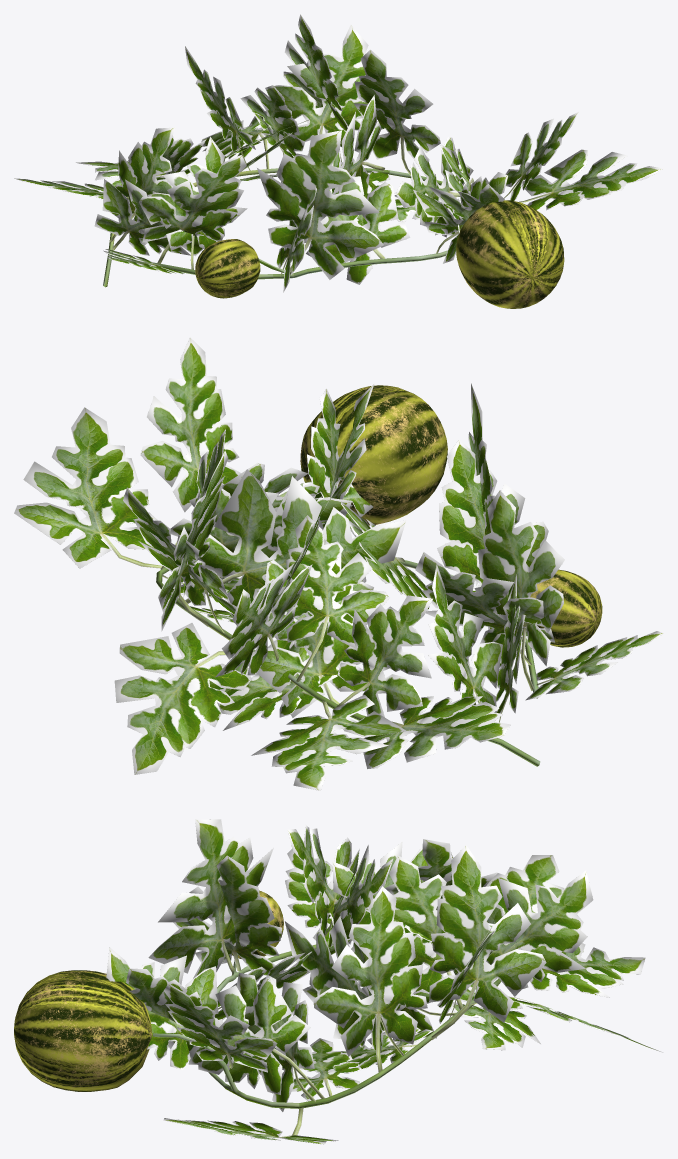
The model's file is Melon.glb.
3 renders of one model, top to bottom at view 1: azimuth 30°, elevation 25°; view 2: azimuth 150°, elevation 25°; view 3: azimuth 270°, elevation 25°, orthographic. The views are drawn at different scales.
Visible parts, largest first — view 1: BUSH, WATERMELON.001, WATERMELON; view 2: BUSH, WATERMELON.001, WATERMELON; view 3: BUSH, WATERMELON.001, WATERMELON.
Part boxes in pixels (box(x1,y1,x2,y2)): BUSH: box(14, 14, 663, 292); WATERMELON.001: box(456, 200, 564, 308); WATERMELON: box(195, 239, 260, 298); BUSH: box(14, 337, 663, 790); WATERMELON.001: box(300, 385, 447, 525); WATERMELON: box(530, 569, 602, 647); BUSH: box(106, 819, 662, 1144); WATERMELON.001: box(14, 970, 152, 1091); WATERMELON: box(232, 890, 283, 958).
Bounding box in the file's own units: 1.9 × 0.7448 × 1.81.
Materials: 2 (2 with a texture image).
